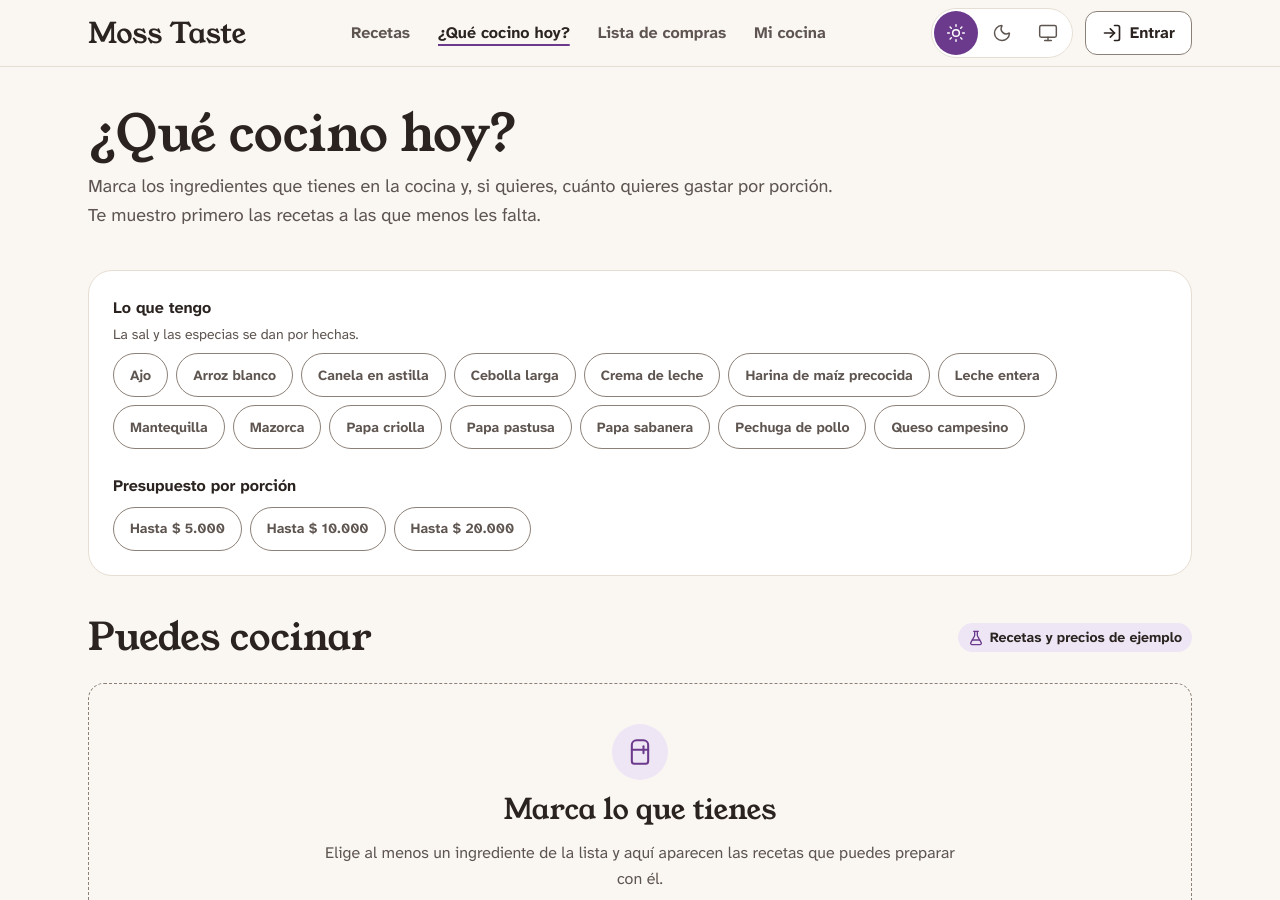
¿Qué cocino hoy? › marca ingredientes en la URL y sugiere recetas con lo que falta
The width and height of the screenshot is (1280, 900).
Expected: the heading "¿Qué cocino hoy?" is shown, [88,98,518,169]
Expected: the heading "Marca lo que tienes" is shown, [504,792,776,828]
Click the button "Arroz blanco": (235, 375) [176,353,293,397]
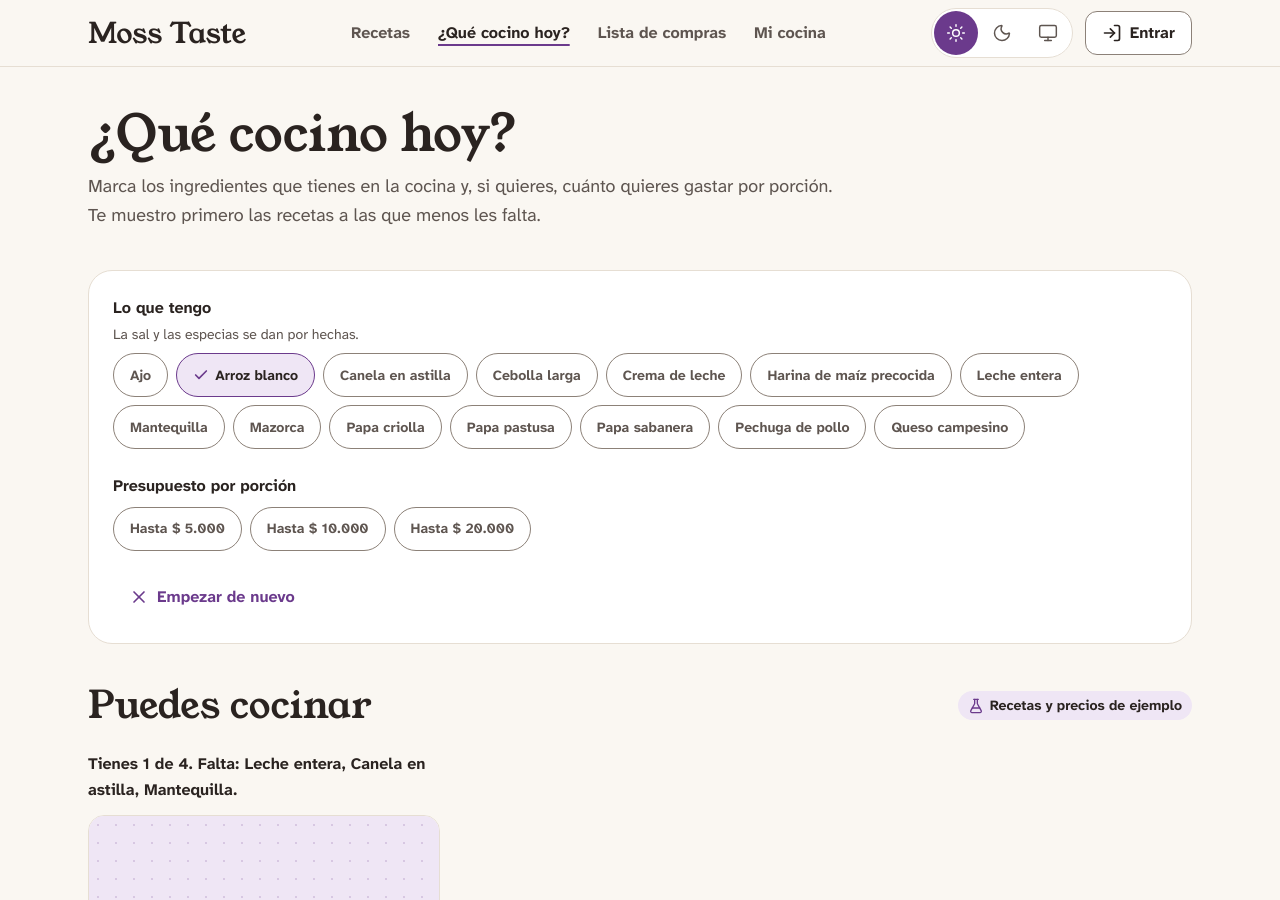
Expected: the text "Tienes 1 de 4. Falta: Leche entera, Canela en astilla, Mantequilla." is shown, [88,751,440,803]
